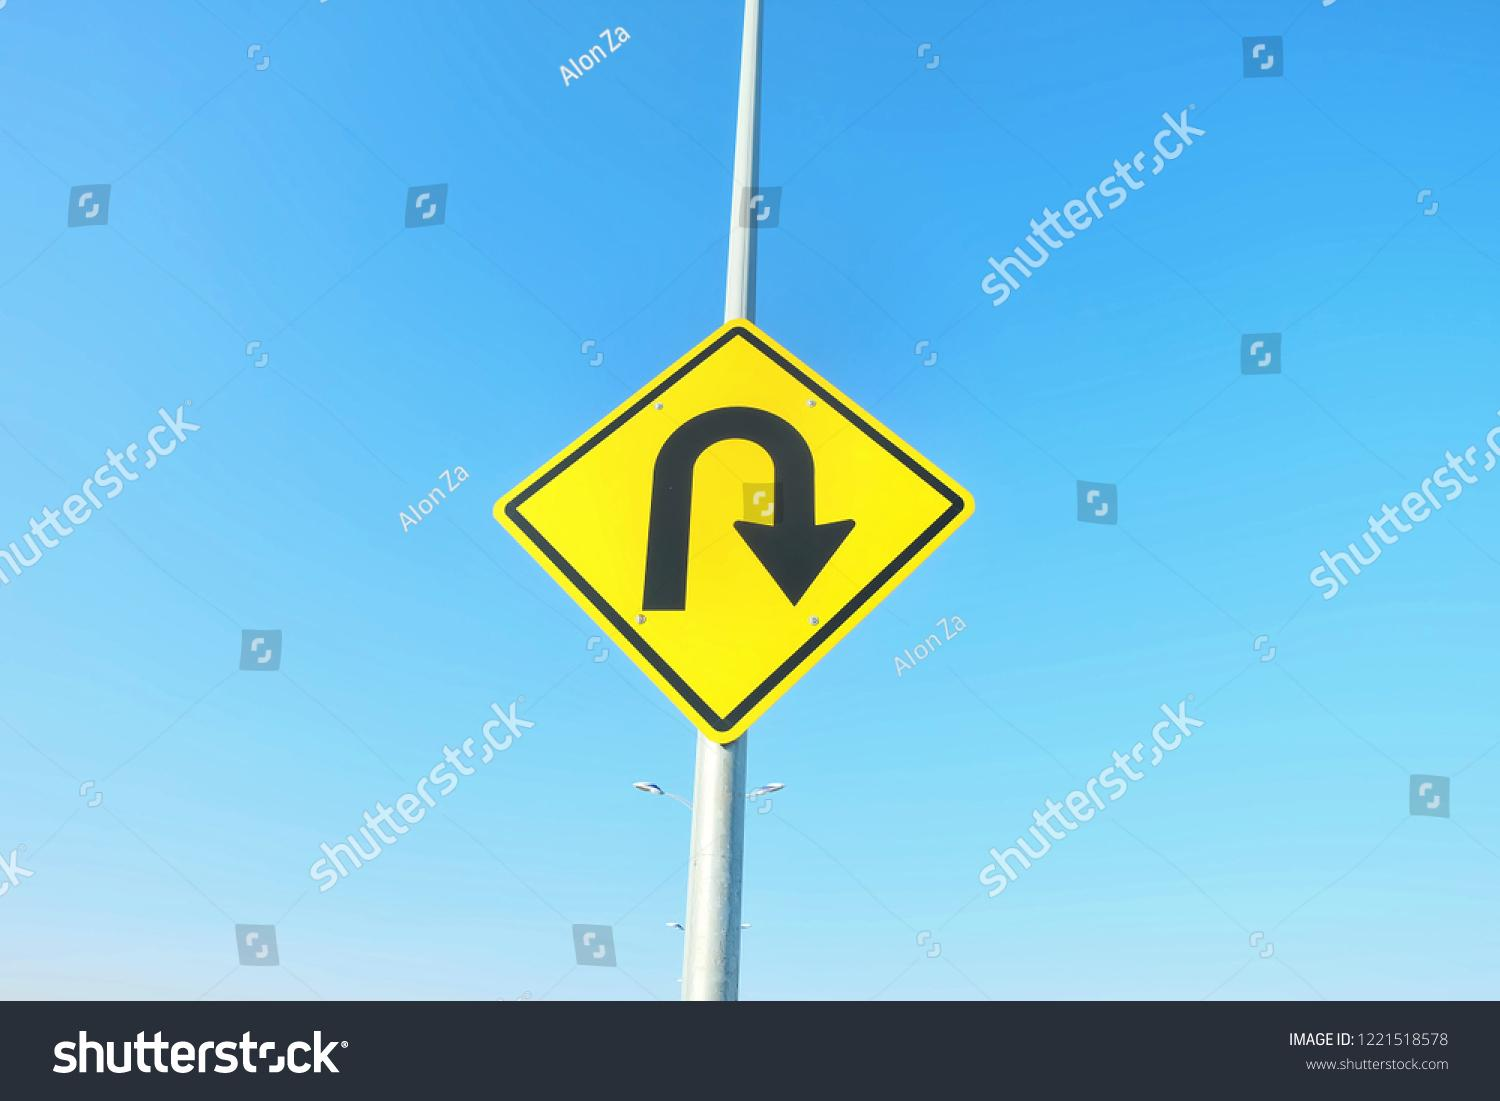Right Hair Pin Bend: (551, 316, 943, 687)
